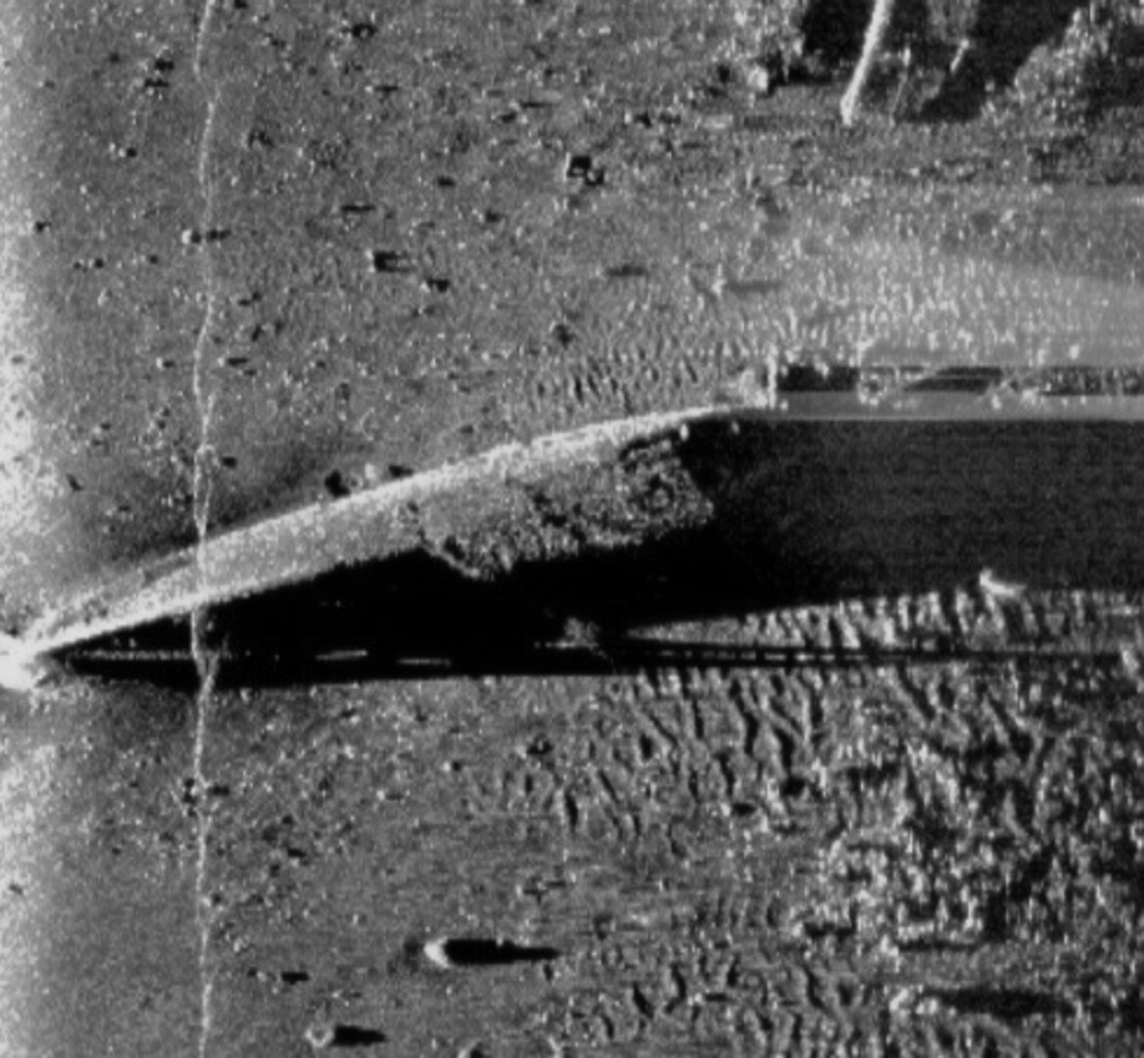ship: (20, 393, 796, 665)
